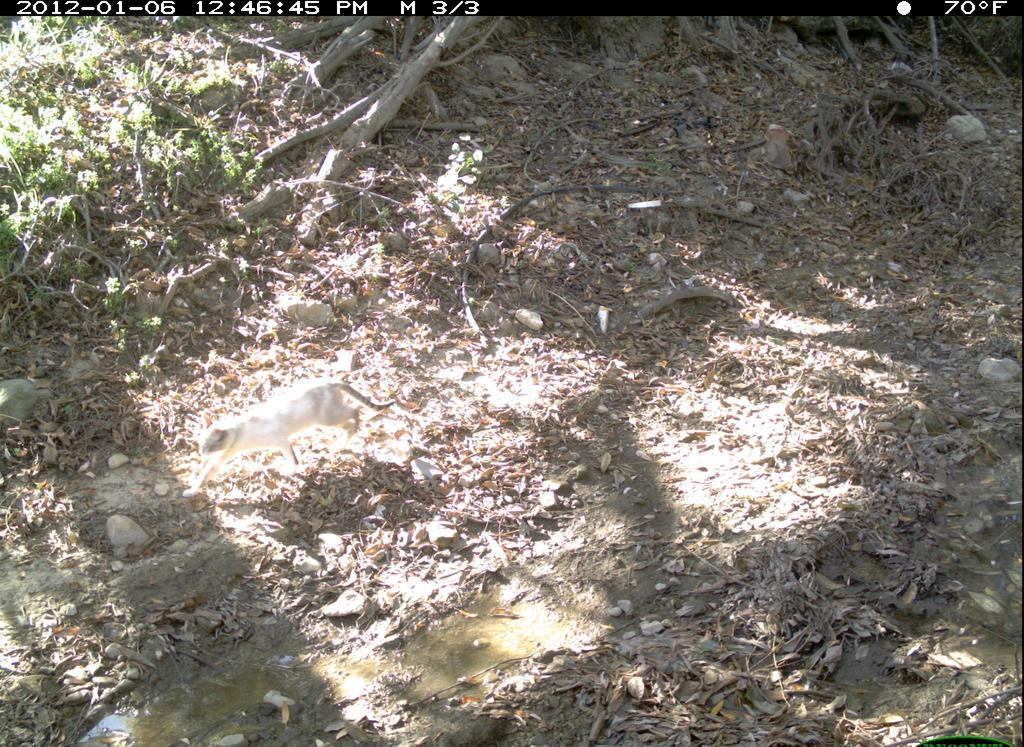cat: (186, 376, 399, 498)
